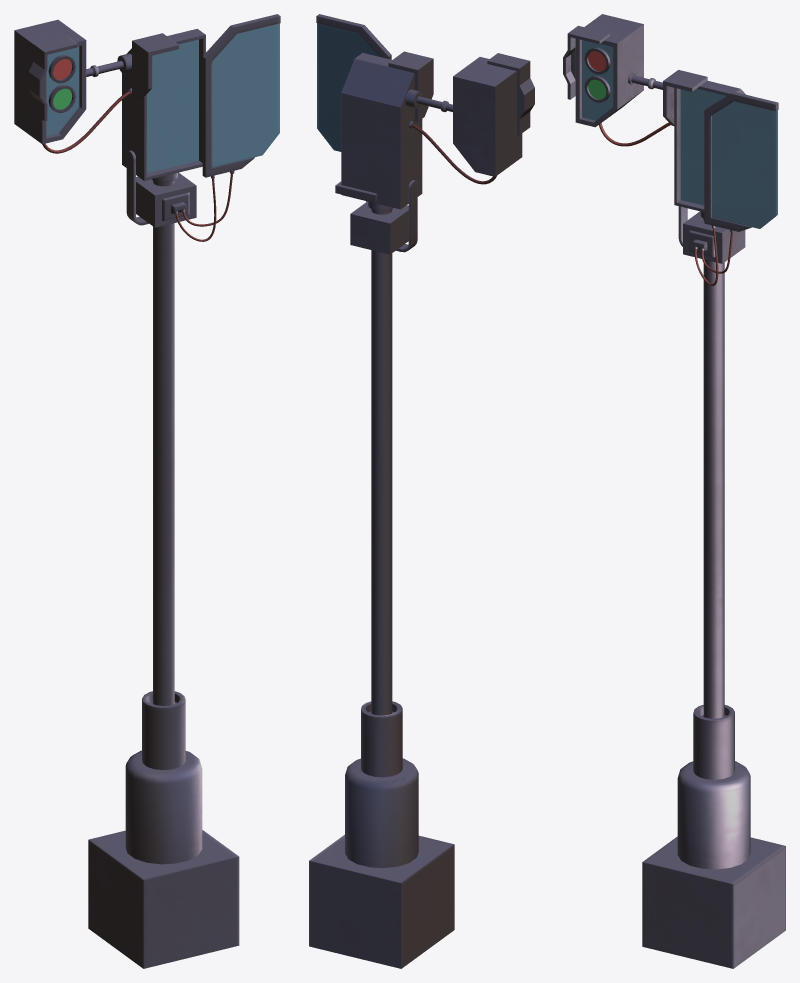
Rendered from TrafficLight.fbx.
The picture shows the model from 3 angles, left to right: view 1: azimuth 30°, elevation 25°; view 2: azimuth 150°, elevation 25°; view 3: azimuth 330°, elevation 25°; orthographic projection. The views are drawn at different scales.
Visible parts, largest first — view 1: round_signal_low, 1_low, screen_low.001, 3_low, frame_low.002, cube_low, 2_low, 4_low, piece_low, cam_2_low, panel_low.001, cam_1_low; view 2: round_signal_low, 1_low, 3_low, screen_low.001, cube_low, 4_low, 2_low, frame_low.002, piece_low, intersection_low; view 3: round_signal_low, screen_low.001, 3_low, 1_low, frame_low.002, cube_low, 4_low, 2_low, cam_1_low, cam_2_low, panel_low.001.
Boxes of the visible parts, <box> form: round_signal_low: <box>88,173,239,968</box>; 1_low: <box>122,28,205,180</box>; screen_low.001: <box>212,23,279,167</box>; 3_low: <box>14,19,86,144</box>; frame_low.002: <box>202,14,280,177</box>; cube_low: <box>136,172,196,227</box>; 2_low: <box>132,33,178,99</box>; 4_low: <box>28,36,78,120</box>; piece_low: <box>126,150,148,225</box>; cam_2_low: <box>48,84,75,112</box>; panel_low.001: <box>162,192,189,220</box>; cam_1_low: <box>48,55,75,83</box>; round_signal_low: <box>309,201,454,968</box>; 1_low: <box>341,53,422,209</box>; 3_low: <box>453,57,522,176</box>; screen_low.001: <box>317,23,379,151</box>; cube_low: <box>350,201,408,254</box>; 4_low: <box>487,53,534,134</box>; 2_low: <box>388,51,433,121</box>; frame_low.002: <box>316,14,391,202</box>; piece_low: <box>396,180,417,252</box>; intersection_low: <box>405,89,452,111</box>; round_signal_low: <box>642,211,785,968</box>; screen_low.001: <box>711,101,777,228</box>; 3_low: <box>575,14,643,127</box>; 1_low: <box>674,81,745,212</box>; frame_low.002: <box>704,92,778,231</box>; cube_low: <box>683,211,745,263</box>; 4_low: <box>563,25,609,99</box>; 2_low: <box>663,70,707,125</box>; cam_1_low: <box>584,47,610,74</box>; cam_2_low: <box>584,75,610,102</box>; panel_low.001: <box>689,230,715,257</box>.
Bounding box in the file's own units: 209 × 802 × 86.19.
